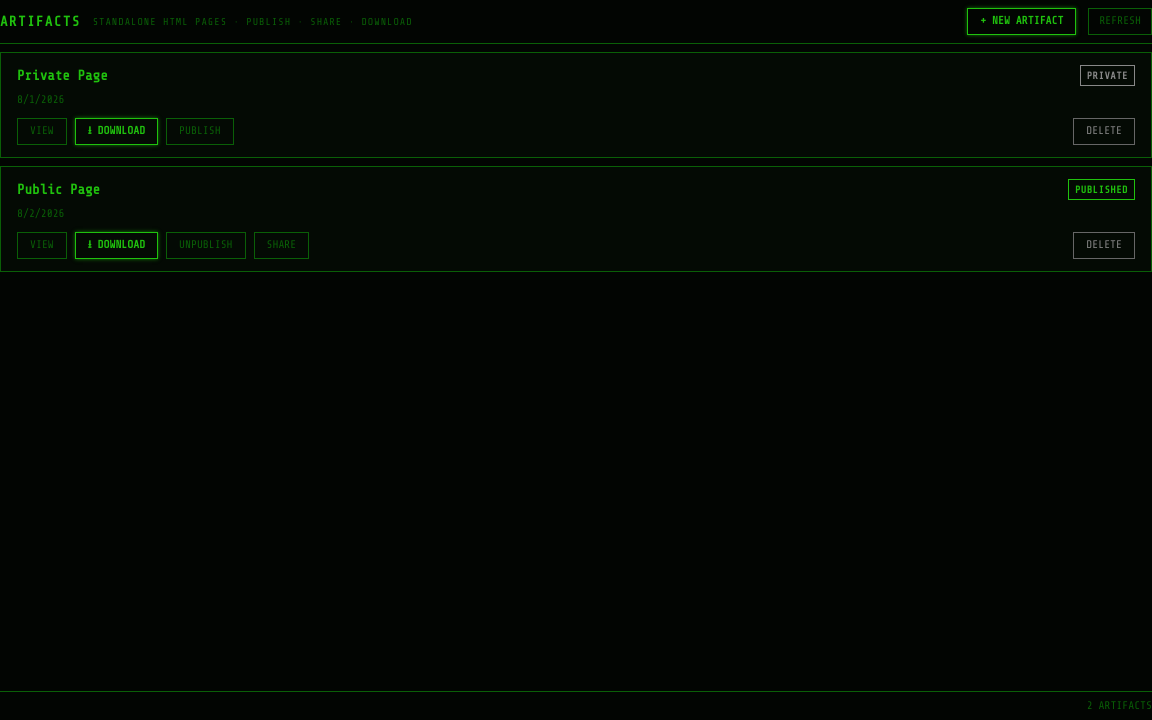
Scenario: ArtifactsView (adj-j7az6.3.2) › NEW ARTIFACT opens the create form
Expected: the text "Private Page" is shown, x1=17 y1=68 x2=108 y2=82
Click the button "+ NEW ARTIFACT" at (1022,21), box x1=967 y1=8 x2=1076 y2=34
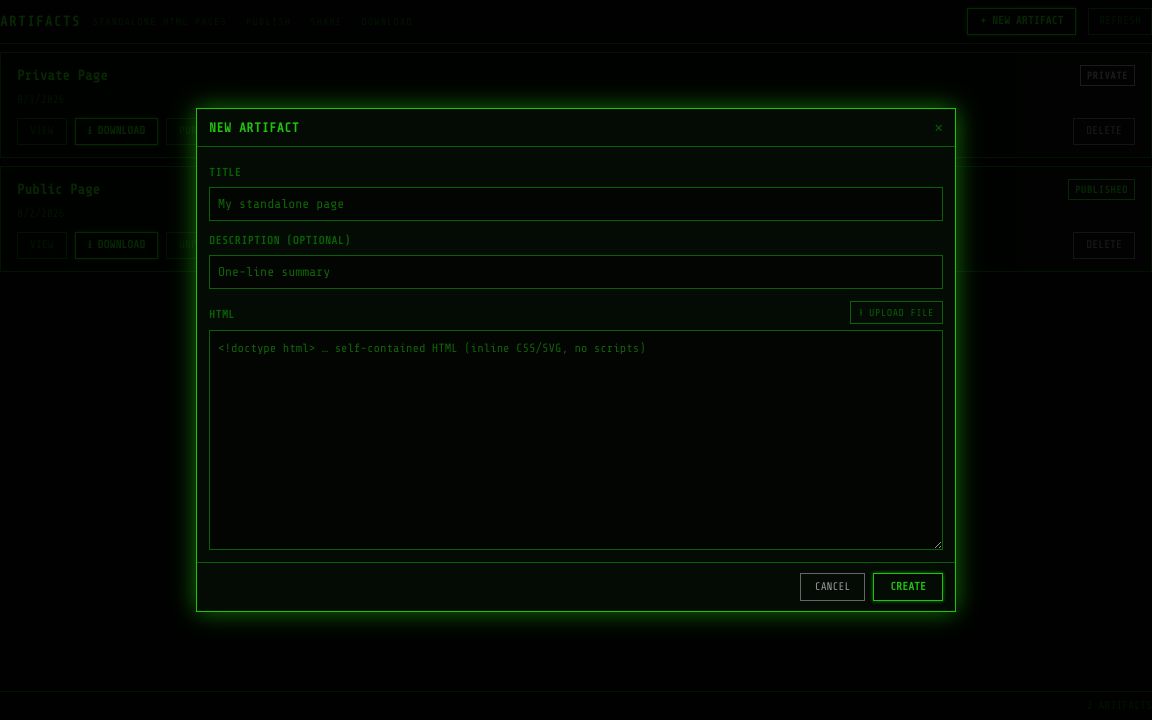
Expected: the dialog named "create artifact" is shown
